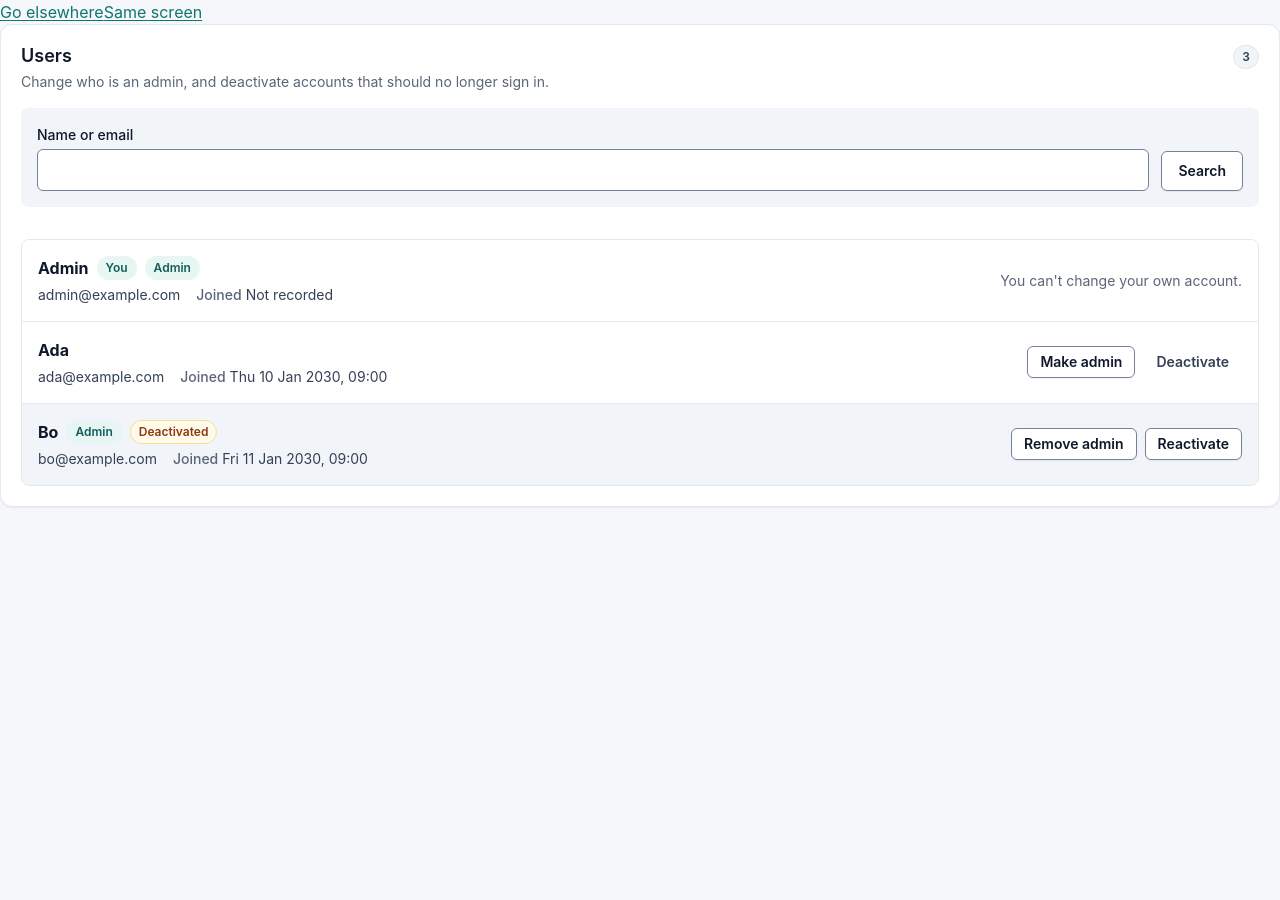
Test: AdminUsersPage › reactivates a deactivated user
Click the button with aria-label "Reactivate Bo" at (1193, 444), box [1145,428,1242,460]
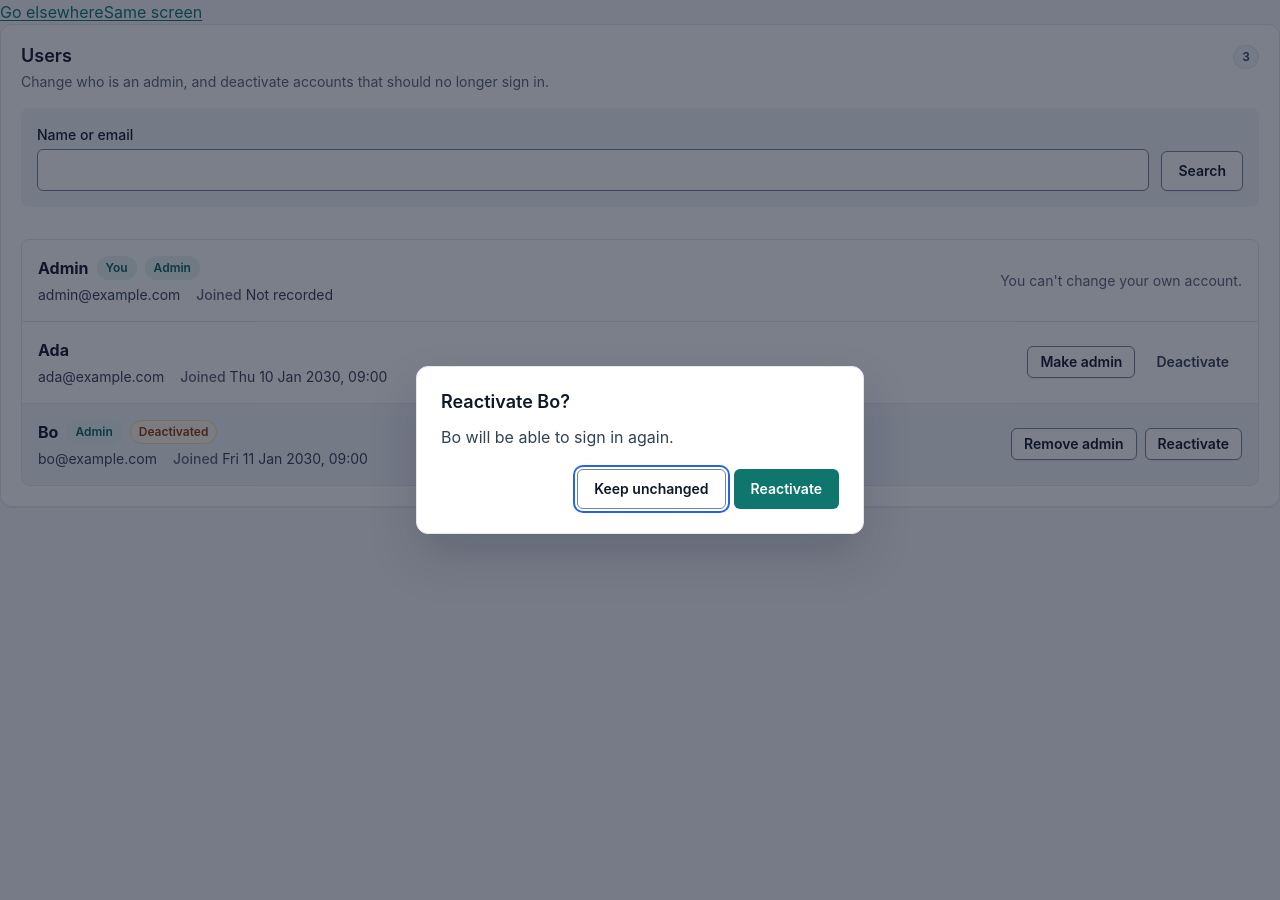
Click the button "Reactivate" at (786, 489), box [734,469,839,509]
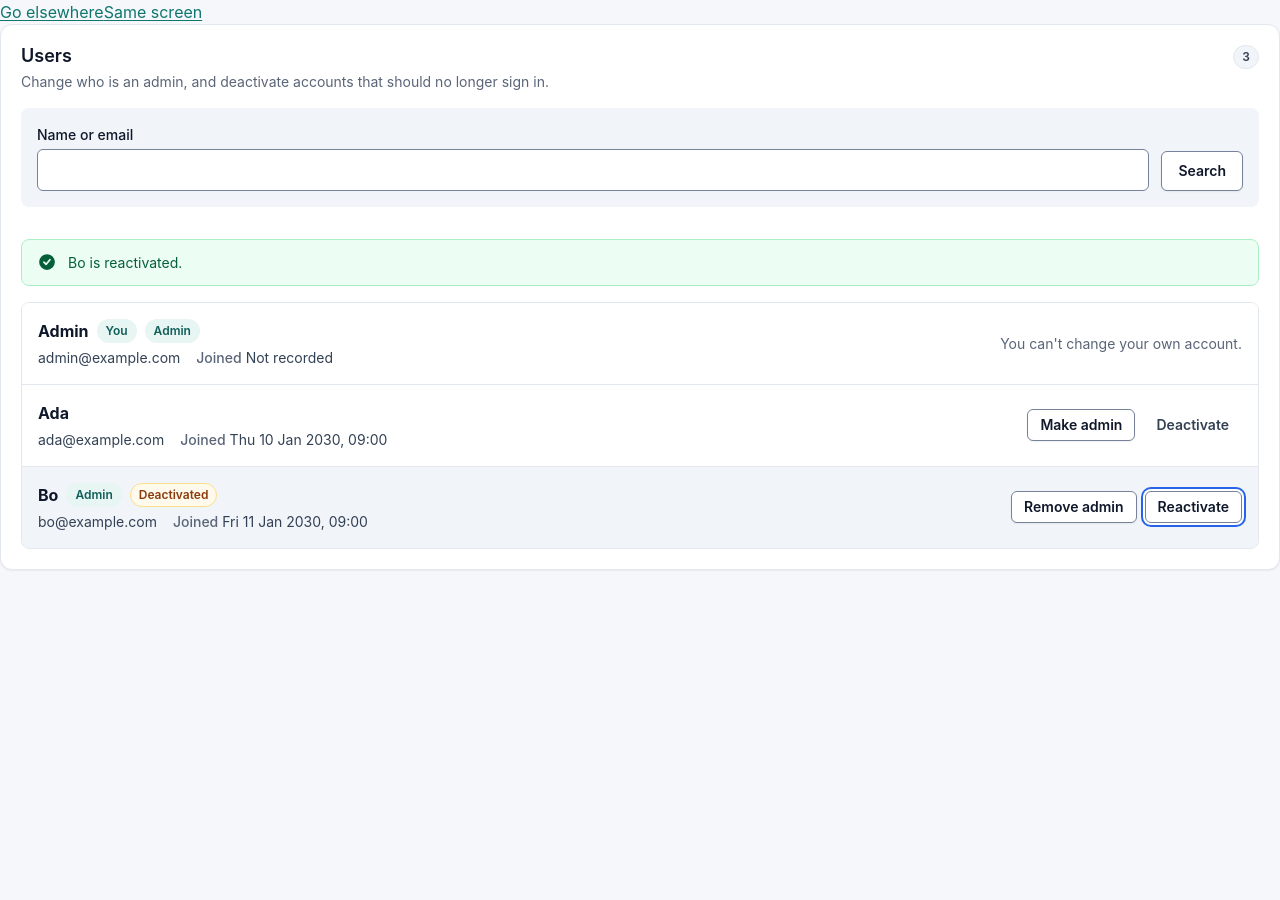
Expected: the text "Bo is reactivated." is shown, [68,252,182,273]
